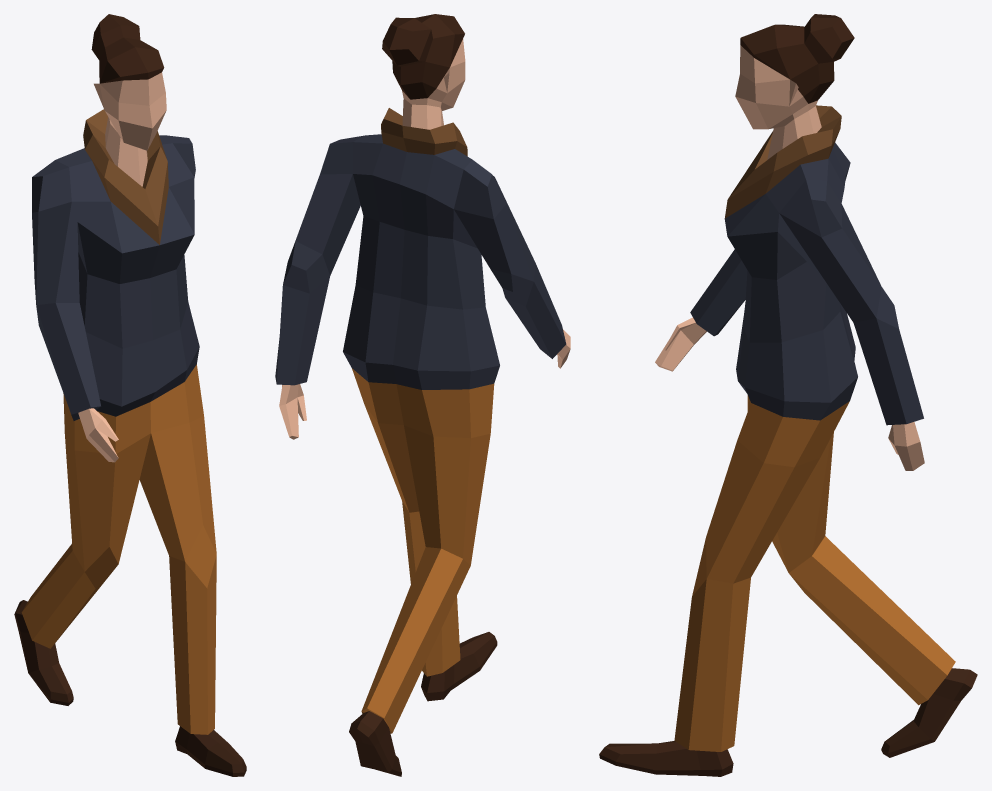
File: AutumnWomanC.005.glb
3 views of the same model, side by side, from view 1: azimuth 30°, elevation 25°; view 2: azimuth 150°, elevation 25°; view 3: azimuth 270°, elevation 25° (orthographic). The views are drawn at different scales.
Parts seen in each view (by area): view 1: AutumnWomanC.005; view 2: AutumnWomanC.005; view 3: AutumnWomanC.005.
Boxes of the visible parts, x1,y1,x2,y2 form: AutumnWomanC.005: [14, 14, 246, 776]; AutumnWomanC.005: [275, 14, 570, 776]; AutumnWomanC.005: [599, 14, 977, 776].
Size of the model in its own units: 0.4841 by 1.68 by 0.7738.
1 material, 1 textured.
